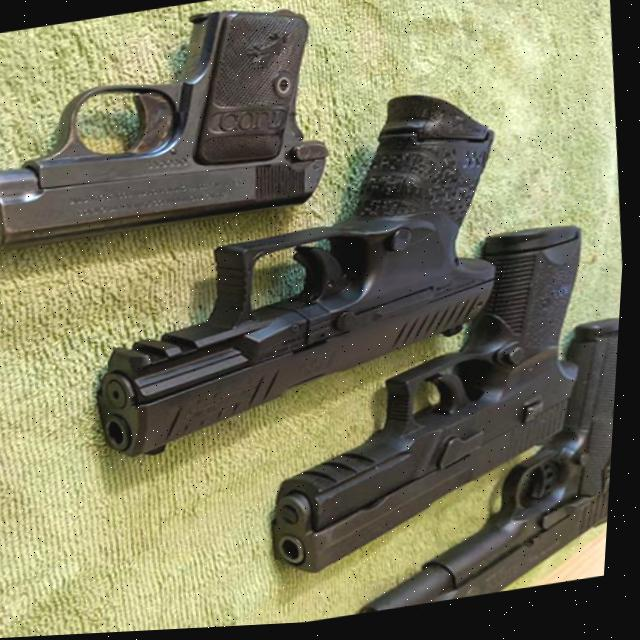pistol: (68, 80, 535, 469), (245, 222, 613, 586), (0, 0, 348, 258), (329, 321, 624, 620)
